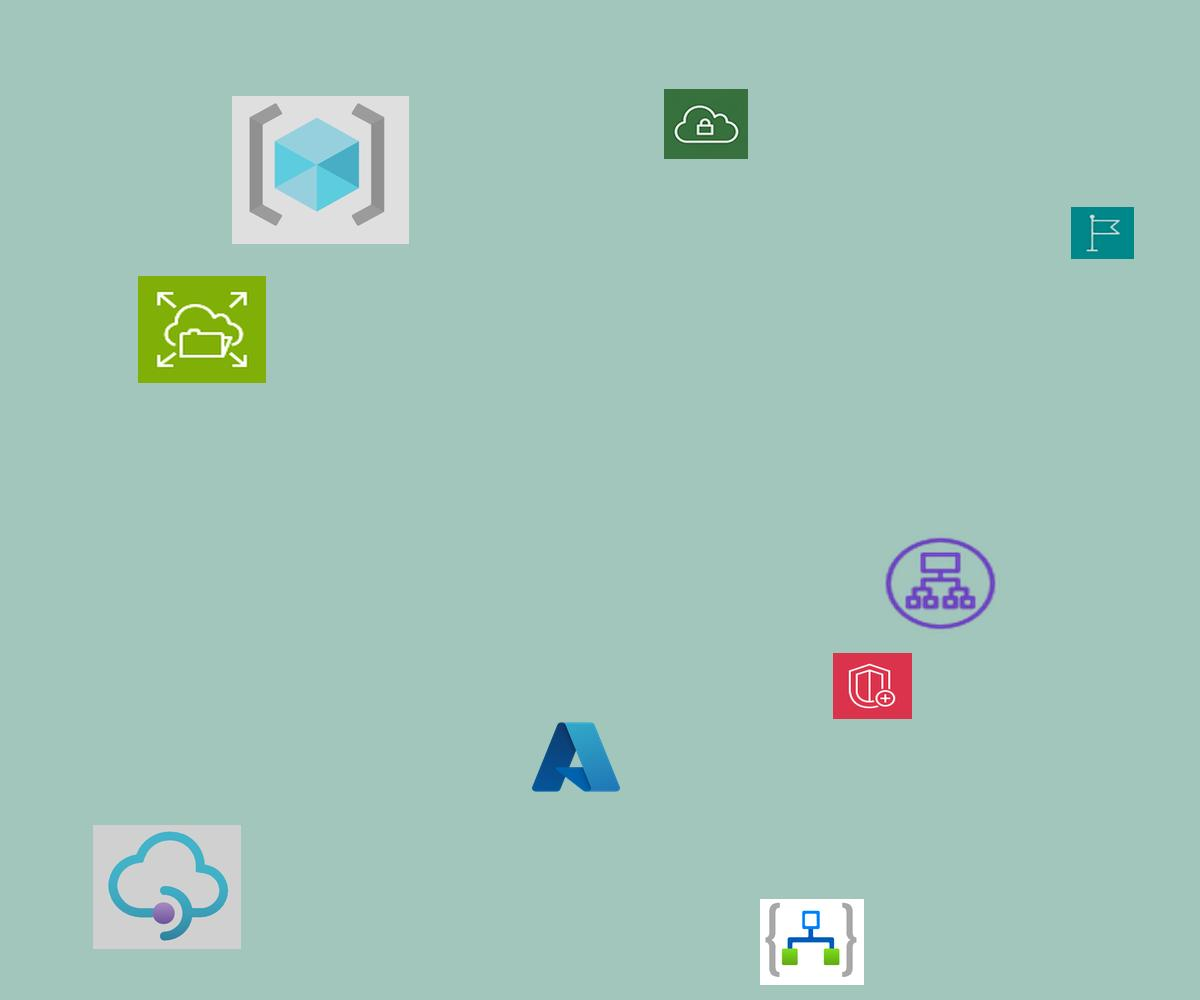AWS-EFS: (138, 276, 266, 383)
AWS-Private_vpc: (664, 89, 748, 159)
AWS-Region: (1071, 207, 1134, 259)
AWS-Res_Elastic-Load-Balancing_Application-Load-Balancer: (881, 534, 1000, 633)
AWS-Shield: (833, 653, 912, 719)
Azure_api_gateway: (93, 825, 241, 949)
Azure_integration-204-Logic-Apps: (760, 899, 864, 985)
Azure_resource_group: (232, 96, 409, 244)
Azure_services: (528, 717, 624, 797)
